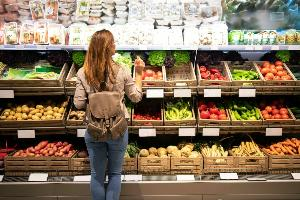bell_pepper: (228, 100, 262, 123), (226, 61, 262, 81), (194, 65, 228, 83), (195, 101, 227, 120), (200, 110, 210, 119), (209, 106, 219, 114), (201, 72, 212, 79), (199, 104, 208, 111), (234, 69, 249, 73), (210, 68, 219, 74), (219, 114, 228, 120), (209, 114, 219, 119), (200, 66, 207, 73), (237, 106, 247, 110), (214, 72, 220, 78), (219, 110, 226, 115), (219, 77, 226, 81), (212, 76, 219, 80)
carrot: (0, 1, 72, 26), (0, 20, 70, 44), (260, 128, 300, 158), (0, 23, 6, 46), (30, 5, 38, 21), (263, 147, 277, 155), (286, 139, 298, 148), (286, 146, 296, 155), (270, 145, 278, 154), (46, 0, 50, 18), (45, 26, 49, 43), (36, 28, 40, 44), (29, 28, 33, 44), (16, 26, 20, 42), (281, 145, 288, 154), (294, 138, 300, 148), (50, 2, 53, 20), (53, 2, 57, 15), (272, 144, 282, 149), (51, 36, 57, 44), (280, 142, 290, 145), (276, 148, 282, 153), (66, 32, 68, 44), (34, 31, 36, 41)
tomato: (255, 60, 298, 84), (132, 93, 164, 121), (258, 99, 296, 121), (261, 67, 270, 75), (266, 72, 275, 79), (280, 108, 288, 115), (272, 108, 280, 115), (265, 106, 273, 113), (270, 68, 278, 75), (275, 60, 284, 66), (264, 113, 271, 120), (263, 61, 270, 68), (282, 114, 290, 120), (278, 71, 286, 77), (276, 65, 284, 71), (281, 75, 290, 80), (273, 75, 281, 80), (275, 114, 282, 119), (262, 110, 269, 115), (270, 64, 276, 69), (265, 76, 271, 80), (258, 65, 262, 70), (134, 115, 138, 119), (157, 117, 161, 120), (150, 118, 154, 120), (142, 118, 146, 120), (138, 117, 142, 119), (146, 118, 148, 120)
